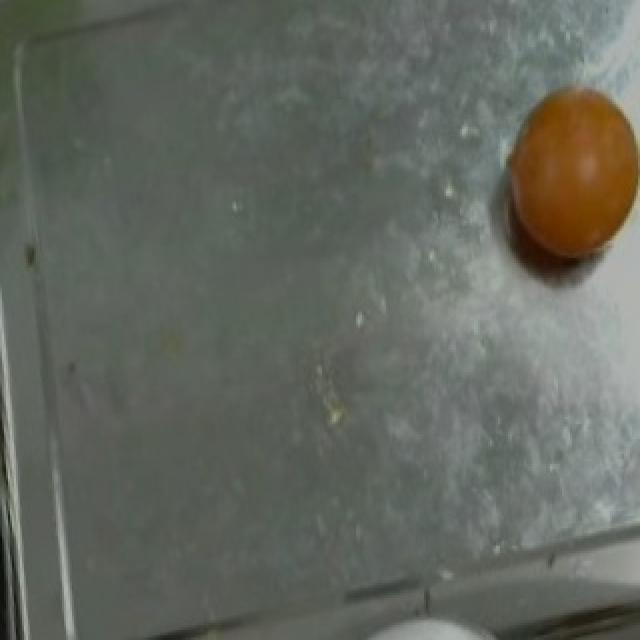Fruit: (484, 65, 640, 290)
